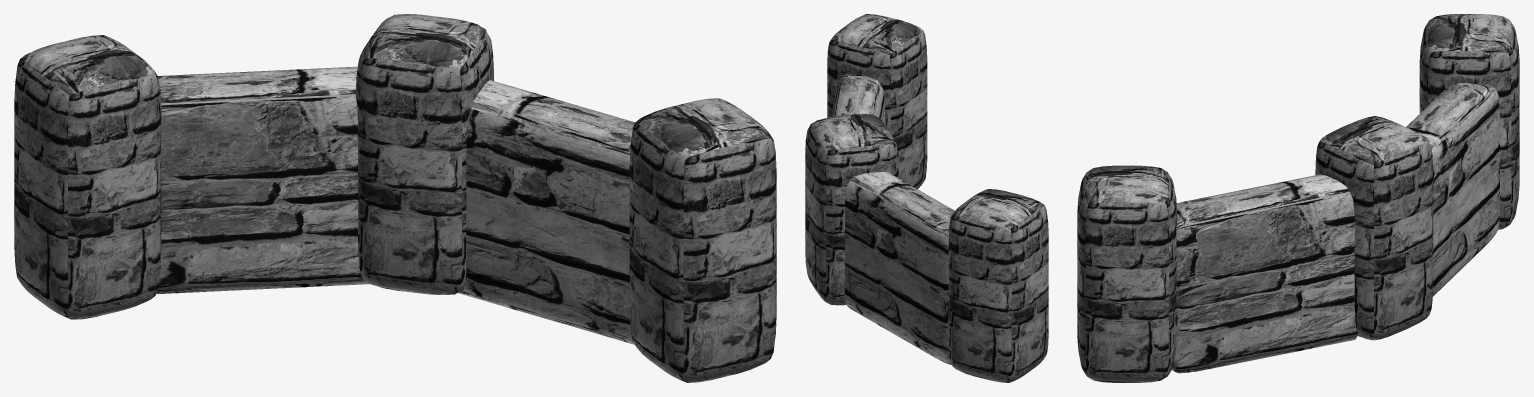
The model's file is mur02.fbx.
The picture shows the model from 3 angles, left to right: view 1: azimuth 30°, elevation 25°; view 2: azimuth 150°, elevation 25°; view 3: azimuth 270°, elevation 25°; orthographic projection. The views are drawn at different scales.
Parts seen in each view (by area): view 1: mur02.004, pil01.004, pil01.006, mur02.005, pil01.005; view 2: pil01.006, mur02.004, pil01.005, pil01.004, mur02.005; view 3: mur02.005, pil01.004, pil01.005, mur02.004, pil01.006.
Part boxes in pixels (x1,y1,x2,y2): mur02.004: [156, 66, 369, 293]; pil01.004: [629, 98, 776, 382]; pil01.006: [14, 35, 161, 319]; mur02.005: [458, 80, 635, 344]; pil01.005: [355, 14, 493, 294]; pil01.006: [948, 189, 1048, 382]; mur02.004: [844, 172, 954, 364]; pil01.005: [805, 114, 898, 305]; pil01.004: [827, 14, 927, 188]; mur02.005: [831, 74, 884, 123]; mur02.005: [1172, 174, 1357, 373]; pil01.004: [1077, 165, 1177, 382]; pil01.005: [1315, 116, 1433, 340]; mur02.004: [1406, 83, 1499, 296]; pil01.006: [1419, 14, 1519, 229].
Size of the model in its own units: 179 by 83.84 by 172.
